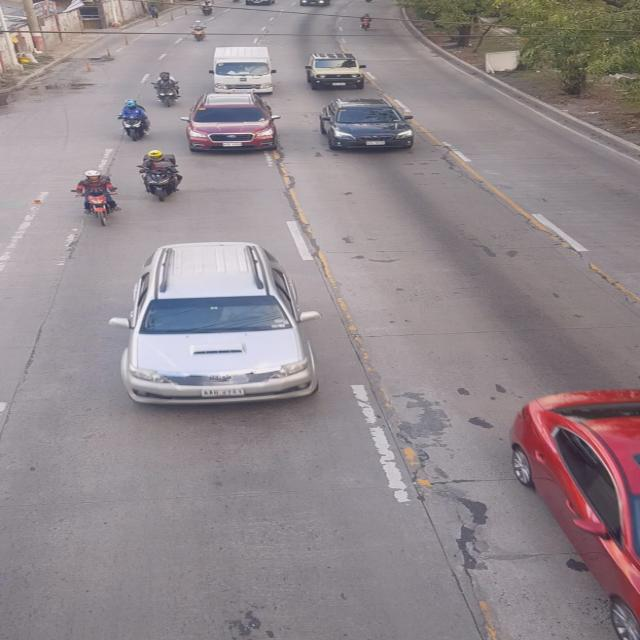car: (121, 239, 320, 409), (505, 384, 639, 635), (185, 88, 276, 156), (322, 96, 415, 152), (305, 49, 369, 94)
motorbike: (141, 150, 182, 206), (74, 170, 114, 227), (122, 99, 150, 141), (156, 71, 183, 111)
truck: (212, 44, 276, 96)
